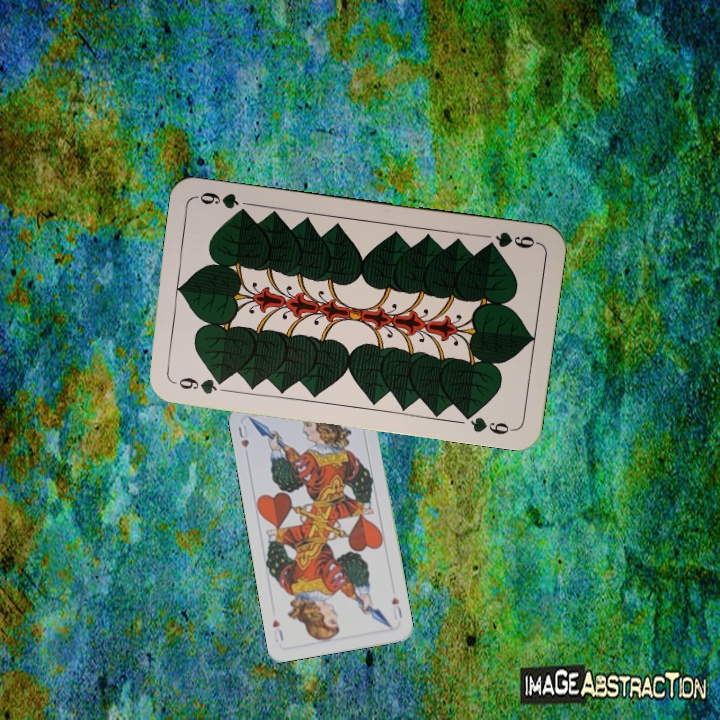G9: (480, 228, 541, 252), (169, 373, 229, 397)
HU: (388, 593, 405, 622), (234, 421, 251, 450)
